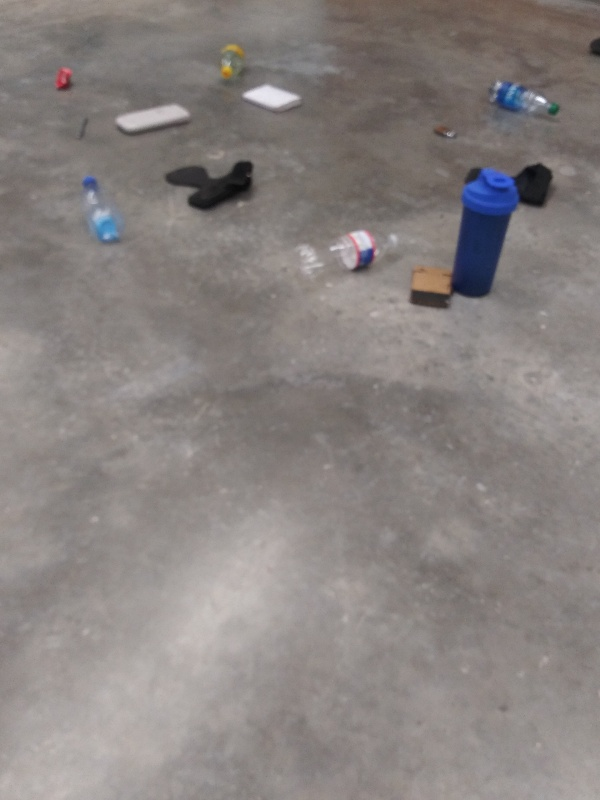bottle: (291, 229, 401, 279), (79, 172, 130, 246), (485, 79, 563, 120), (217, 39, 248, 81)
